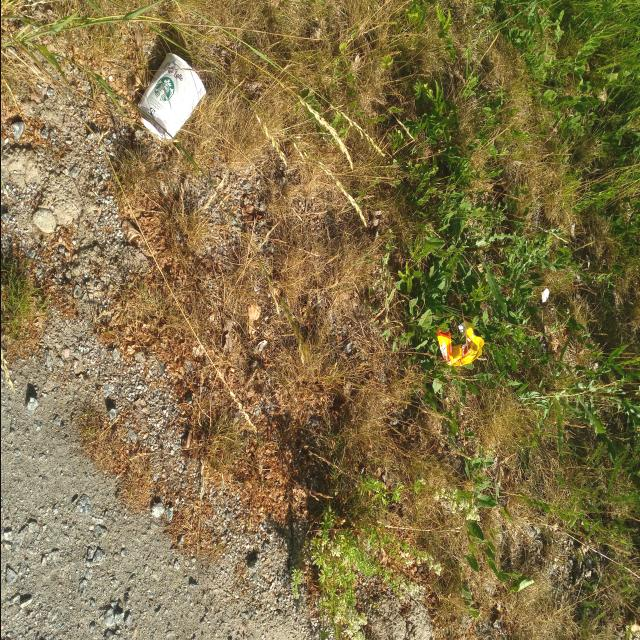Other plastic: (435, 321, 483, 365)
Paper cup: (137, 52, 205, 144)
